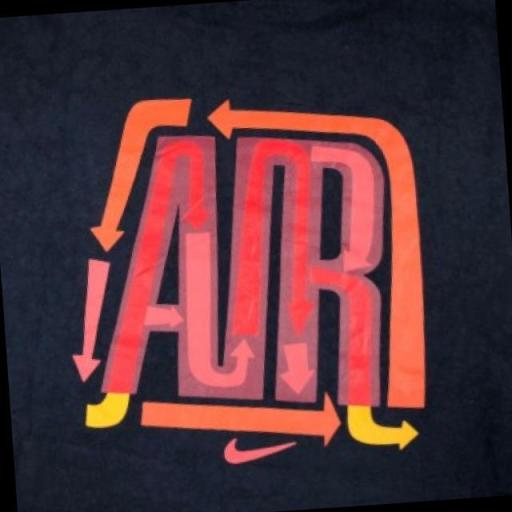Nike: (213, 427, 310, 470)
